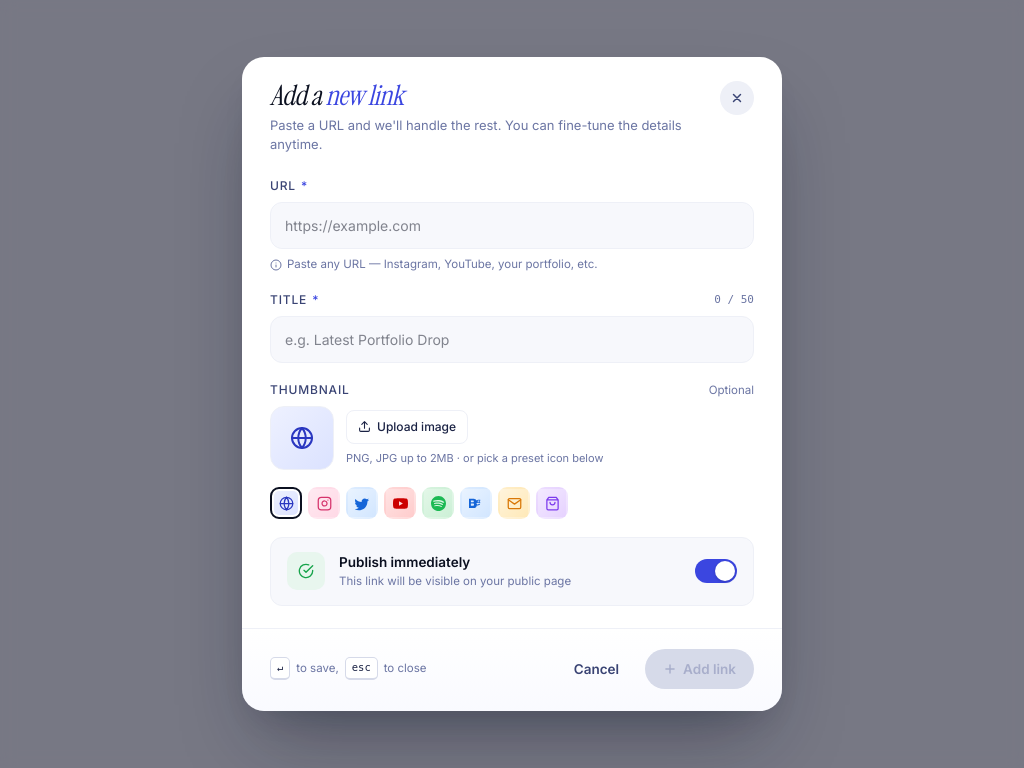
Test: AddEditLinkModal › allows switching to draft status via toggle
The image size is (1024, 768).
Click the switch at (716, 571), box [695,559,737,583]
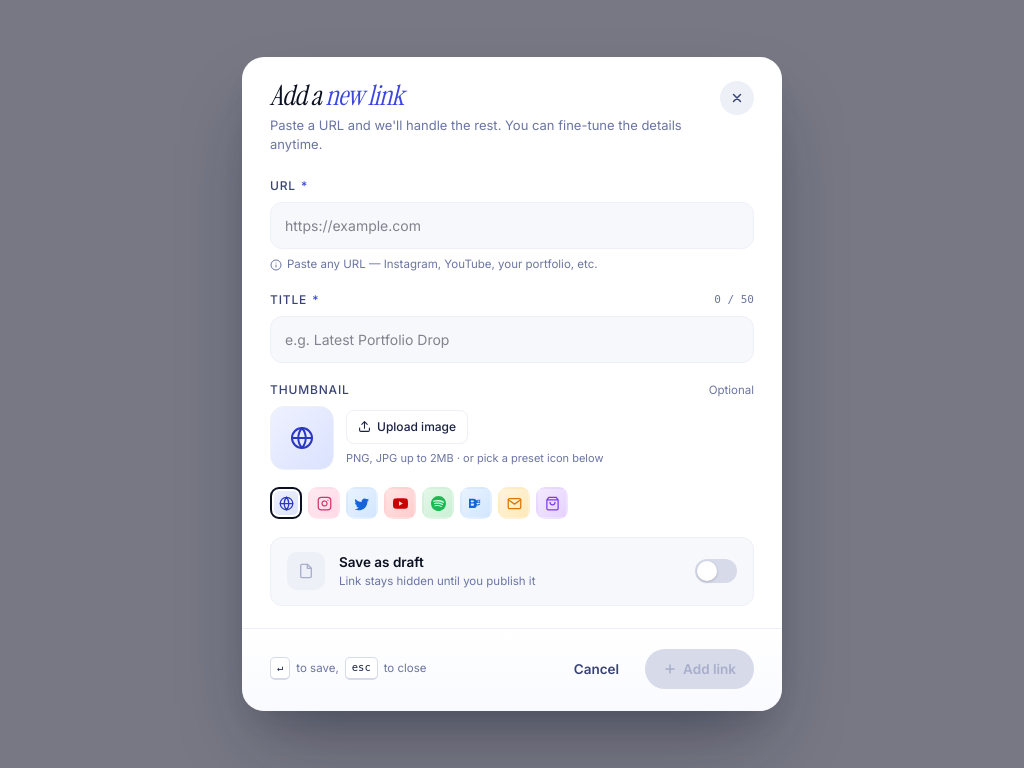
Expected: the text "Save as draft" is shown, [339,554,424,570]
